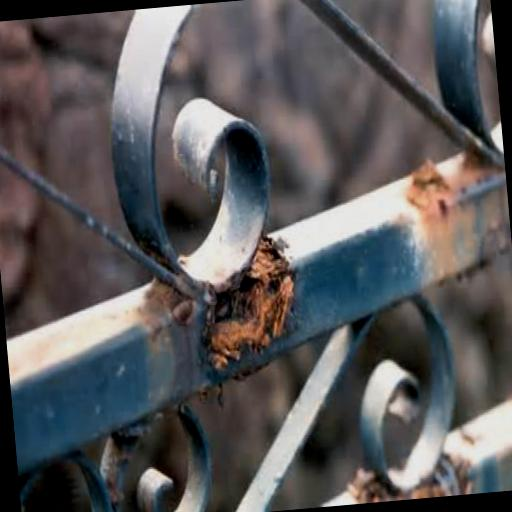corrosion: (385, 139, 497, 289), (202, 230, 301, 379), (143, 279, 192, 323)
